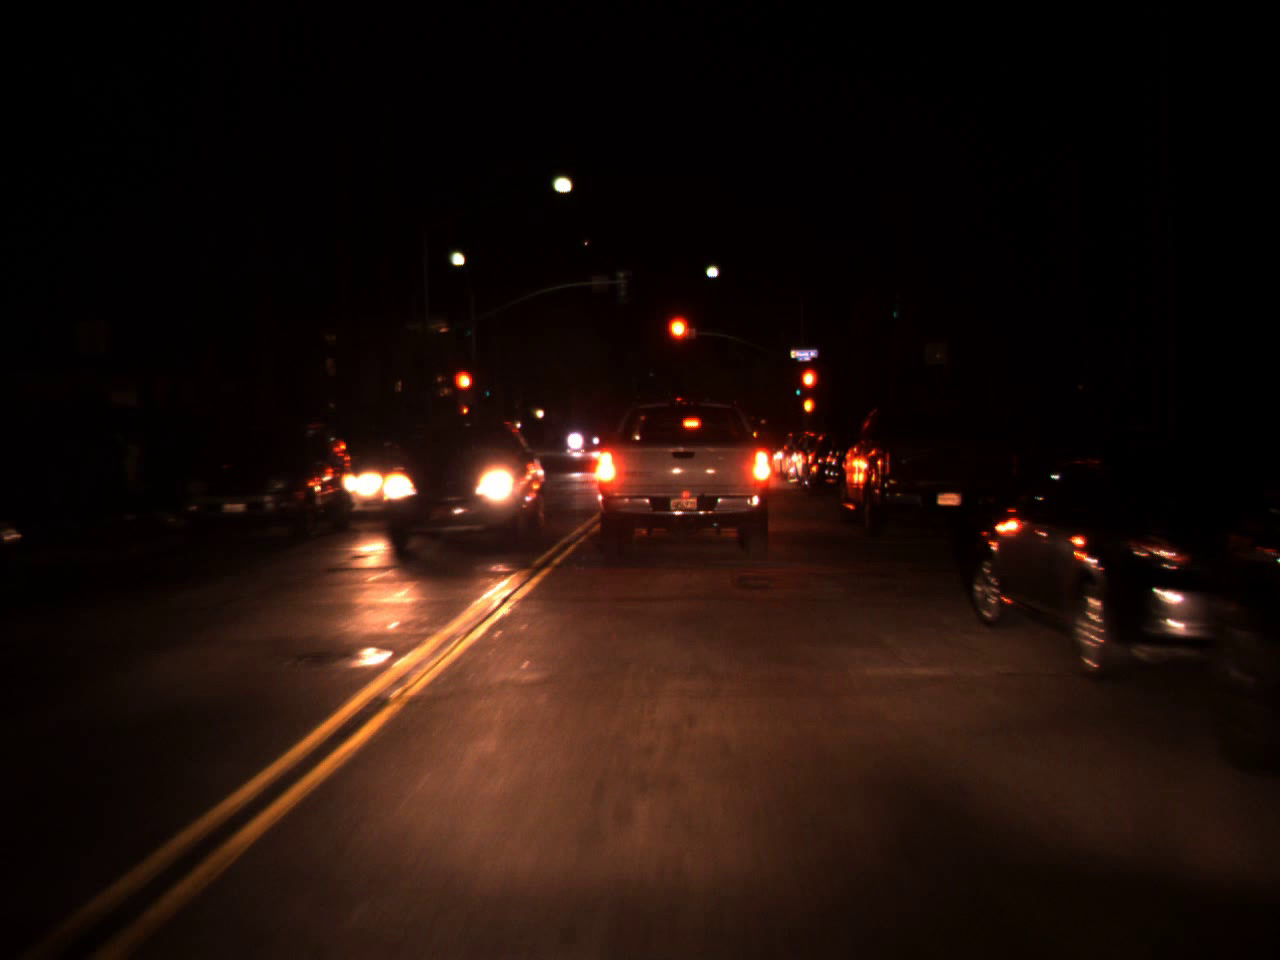stop: (664, 313, 692, 367), (452, 368, 476, 411), (799, 365, 818, 413)
